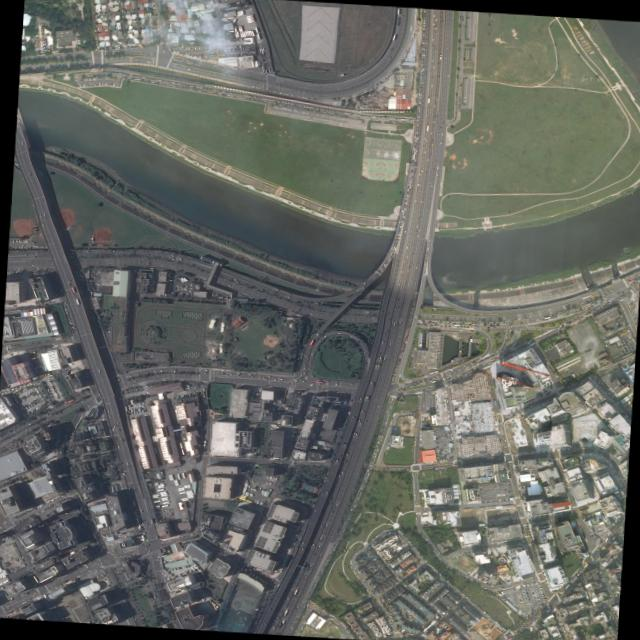large-vehicle: (395, 17, 398, 26), (178, 278, 183, 283), (567, 578, 572, 583), (582, 564, 587, 569), (308, 340, 313, 345), (70, 287, 74, 293), (74, 299, 78, 305), (231, 19, 235, 25), (293, 589, 297, 595), (167, 475, 171, 481), (409, 25, 412, 32), (236, 12, 243, 15), (245, 16, 252, 19), (246, 18, 253, 21), (247, 21, 254, 24), (220, 19, 227, 22), (183, 486, 190, 489), (156, 486, 163, 489), (156, 489, 163, 492), (160, 497, 167, 500), (160, 505, 167, 508), (180, 278, 185, 282), (182, 278, 187, 282), (391, 35, 395, 40), (564, 585, 569, 589), (174, 480, 178, 485), (235, 32, 238, 38), (242, 31, 245, 37), (244, 31, 247, 37), (254, 27, 257, 33), (234, 32, 237, 38), (236, 14, 242, 17), (245, 15, 251, 18), (247, 19, 253, 22), (237, 26, 240, 32), (185, 490, 191, 493), (186, 493, 192, 496), (187, 496, 193, 499), (181, 499, 187, 502), (178, 492, 184, 495), (177, 487, 183, 490), (181, 473, 184, 479), (176, 474, 179, 480), (173, 480, 176, 486), (169, 475, 172, 481), (157, 484, 163, 487), (159, 491, 165, 494), (160, 494, 166, 497), (152, 494, 158, 497), (151, 496, 157, 499), (153, 500, 159, 503), (162, 501, 168, 504), (600, 546, 604, 550), (167, 46, 170, 51), (240, 32, 243, 37), (245, 31, 248, 36), (247, 31, 250, 36), (249, 31, 252, 36), (250, 31, 253, 36), (256, 34, 259, 39), (628, 280, 633, 283), (430, 141, 433, 146), (239, 32, 242, 37), (239, 26, 242, 31), (283, 610, 286, 615), (162, 45, 164, 52), (426, 125, 428, 132), (226, 17, 233, 19), (185, 492, 192, 494), (177, 489, 184, 491), (159, 493, 166, 495), (434, 23, 436, 29), (412, 154, 414, 160), (236, 11, 242, 13), (233, 26, 235, 32), (220, 18, 226, 20), (281, 620, 284, 624), (604, 538, 607, 542), (331, 98, 337, 100), (183, 485, 189, 487), (186, 495, 192, 497), (180, 498, 186, 500), (141, 535, 143, 541), (161, 499, 167, 501), (544, 317, 549, 319), (427, 98, 429, 103), (226, 31, 233, 32), (315, 382, 322, 383), (453, 325, 459, 326), (439, 55, 440, 60), (397, 9, 398, 14)
small-vehicle: (388, 342, 391, 346), (478, 356, 481, 359), (356, 577, 359, 580), (310, 375, 313, 378), (233, 279, 236, 282), (310, 604, 313, 607), (310, 353, 313, 356), (315, 333, 318, 336), (365, 397, 368, 400), (323, 335, 326, 338), (349, 335, 352, 338), (362, 282, 365, 285), (324, 390, 328, 392), (227, 285, 231, 287), (308, 313, 312, 315), (309, 384, 313, 386), (596, 303, 599, 305), (596, 300, 599, 302), (602, 303, 605, 305), (608, 301, 611, 303), (587, 307, 590, 309), (559, 314, 562, 316), (584, 315, 587, 317), (587, 305, 590, 307), (107, 83, 109, 86), (83, 78, 85, 81), (485, 337, 487, 340), (435, 378, 438, 380), (475, 363, 478, 365), (485, 370, 488, 372), (499, 356, 502, 358), (535, 319, 538, 321), (526, 343, 529, 345), (538, 320, 541, 322), (465, 368, 468, 370), (462, 365, 465, 367), (498, 348, 501, 350), (472, 361, 475, 363), (453, 363, 456, 365), (464, 374, 467, 376), (422, 146, 424, 149), (415, 131, 417, 134), (429, 70, 431, 73), (446, 74, 448, 77), (425, 42, 427, 45), (194, 64, 197, 66), (213, 65, 216, 67), (337, 475, 340, 477), (417, 395, 419, 398), (357, 571, 359, 574), (361, 578, 364, 580), (301, 548, 303, 551), (318, 555, 320, 558), (318, 545, 320, 548), (319, 537, 321, 540), (335, 504, 337, 507), (325, 524, 327, 527), (521, 590, 524, 592), (335, 623, 338, 625), (367, 591, 369, 594), (530, 590, 533, 592), (529, 588, 532, 590), (437, 464, 440, 466), (492, 636, 495, 638), (583, 562, 586, 564), (575, 571, 577, 574), (586, 515, 588, 518), (316, 612, 319, 614), (279, 379, 282, 381), (317, 379, 320, 381), (235, 281, 238, 283), (273, 379, 276, 381), (308, 361, 310, 364), (275, 289, 278, 291), (341, 471, 343, 474), (345, 453, 347, 456), (108, 415, 110, 418), (116, 422, 118, 425), (112, 428, 114, 431), (153, 371, 156, 373), (160, 370, 163, 372), (173, 371, 176, 373), (204, 370, 207, 372), (236, 373, 239, 375), (417, 189, 419, 192), (400, 15, 402, 18), (387, 57, 390, 59), (398, 321, 400, 324), (334, 384, 337, 386), (309, 564, 311, 567), (363, 351, 365, 354), (366, 311, 369, 313), (360, 410, 363, 412), (414, 266, 416, 269), (146, 254, 149, 256), (170, 265, 173, 267), (171, 255, 174, 257), (178, 258, 181, 260), (410, 167, 412, 170), (417, 229, 419, 232), (401, 215, 403, 218), (392, 323, 394, 326), (381, 341, 383, 344), (429, 380, 432, 382), (383, 357, 385, 360), (411, 355, 413, 358), (418, 381, 421, 383), (389, 420, 391, 423), (542, 596, 545, 598), (541, 594, 544, 596), (540, 592, 543, 594), (522, 622, 524, 625), (518, 629, 521, 631), (513, 632, 516, 634), (513, 630, 516, 632), (527, 622, 530, 624), (535, 627, 538, 629), (531, 621, 534, 623), (39, 214, 41, 217), (590, 296, 592, 298), (595, 308, 597, 310), (597, 307, 599, 309), (600, 305, 602, 307), (628, 306, 630, 308), (603, 291, 605, 293), (623, 299, 625, 301), (625, 299, 627, 301), (591, 304, 593, 306), (579, 315, 581, 317), (581, 314, 583, 316), (572, 309, 574, 311), (582, 307, 584, 309), (585, 306, 587, 308), (622, 311, 624, 313), (156, 24, 158, 26), (156, 25, 158, 27), (167, 16, 169, 18), (513, 320, 515, 322), (517, 318, 519, 320), (561, 312, 563, 314), (458, 369, 460, 371), (496, 323, 498, 325), (502, 345, 504, 347), (496, 351, 498, 353), (485, 358, 487, 360), (471, 365, 473, 367), (414, 140, 416, 142), (423, 138, 425, 140), (423, 151, 425, 153), (416, 137, 418, 139), (416, 119, 418, 121), (420, 82, 422, 84), (420, 64, 422, 66), (422, 28, 424, 30), (218, 93, 220, 95), (209, 59, 211, 61), (211, 59, 213, 61), (213, 60, 215, 62), (214, 60, 216, 62), (215, 60, 217, 62), (176, 51, 178, 53), (197, 47, 199, 49), (439, 142, 441, 144), (437, 134, 439, 136), (269, 111, 271, 113), (339, 123, 341, 125), (401, 121, 403, 123), (359, 487, 361, 489), (353, 573, 355, 575), (355, 575, 357, 577), (363, 586, 365, 588), (301, 542, 303, 544), (495, 393, 497, 395), (499, 494, 501, 496), (500, 494, 502, 496), (365, 589, 367, 591), (512, 604, 514, 606), (526, 603, 528, 605), (584, 607, 586, 609), (582, 565, 584, 567), (596, 548, 598, 550), (599, 566, 601, 568), (596, 608, 598, 610), (595, 609, 597, 611), (603, 606, 605, 608), (594, 609, 596, 611), (349, 560, 351, 562), (302, 372, 304, 374), (303, 364, 305, 366), (262, 377, 264, 379), (353, 432, 355, 434), (119, 438, 121, 440), (126, 463, 128, 465), (122, 473, 124, 475), (407, 234, 409, 236), (358, 423, 360, 425), (308, 107, 310, 109), (303, 106, 305, 108), (349, 384, 353, 385), (359, 398, 361, 400), (364, 397, 366, 399), (24, 254, 26, 256), (535, 595, 537, 597), (397, 283, 399, 285), (416, 184, 418, 186), (420, 201, 422, 203), (426, 248, 428, 250), (425, 256, 427, 258), (402, 216, 404, 218), (401, 213, 403, 215), (406, 198, 408, 200), (405, 195, 407, 197), (406, 189, 408, 191), (409, 182, 411, 184), (432, 386, 434, 388), (414, 316, 416, 318), (418, 320, 420, 322), (411, 354, 413, 356), (412, 366, 414, 368), (413, 385, 415, 387), (411, 382, 413, 384), (433, 378, 435, 380), (401, 223, 403, 225), (535, 596, 537, 598), (375, 445, 377, 447), (564, 634, 566, 636), (561, 627, 563, 629), (559, 617, 561, 619), (368, 464, 370, 466), (373, 456, 375, 458), (389, 406, 391, 408), (559, 591, 561, 593), (540, 591, 542, 593), (545, 596, 547, 598), (538, 611, 540, 613), (525, 615, 527, 617), (570, 580, 572, 582), (573, 578, 575, 580), (537, 615, 539, 617), (24, 241, 26, 243), (41, 224, 43, 226), (43, 214, 45, 216), (361, 287, 363, 289), (383, 266, 385, 268), (379, 269, 381, 271), (383, 264, 385, 266), (388, 256, 390, 258), (389, 254, 391, 256), (391, 249, 393, 251), (392, 247, 394, 249), (397, 237, 399, 239), (597, 302, 600, 303), (602, 301, 605, 302), (603, 299, 606, 300), (604, 292, 607, 293), (612, 292, 615, 293), (611, 294, 614, 295), (614, 295, 617, 296), (593, 305, 596, 306), (563, 313, 566, 314), (572, 311, 575, 312), (575, 309, 578, 310), (152, 8, 155, 9), (128, 75, 131, 76), (151, 3, 154, 4), (152, 7, 155, 8), (135, 79, 138, 80), (139, 80, 142, 81), (86, 73, 89, 74), (86, 76, 89, 77), (73, 76, 76, 77), (73, 79, 76, 80), (98, 83, 99, 86), (570, 320, 573, 321), (480, 323, 483, 324), (474, 324, 477, 325), (467, 326, 470, 327), (468, 327, 471, 328), (483, 325, 486, 326), (483, 324, 486, 325), (489, 322, 492, 323), (444, 322, 447, 323), (426, 325, 429, 326), (438, 324, 441, 325), (446, 325, 449, 326), (451, 322, 454, 323), (495, 359, 498, 360), (502, 326, 505, 327), (495, 322, 498, 323), (141, 77, 144, 78), (157, 80, 160, 81), (171, 83, 174, 84), (421, 156, 422, 159), (413, 148, 414, 151), (446, 123, 449, 124), (446, 126, 449, 127), (462, 100, 465, 101), (462, 97, 465, 98), (432, 120, 433, 123), (423, 54, 424, 57), (207, 92, 210, 93), (216, 55, 219, 56), (198, 87, 201, 88), (195, 87, 198, 88), (189, 89, 192, 90), (174, 60, 177, 61), (184, 53, 185, 56), (185, 47, 186, 50), (186, 53, 187, 56), (185, 61, 188, 62), (187, 47, 188, 50), (406, 121, 409, 122), (353, 114, 356, 115), (404, 119, 407, 120), (420, 419, 423, 420), (447, 439, 450, 440), (447, 437, 450, 438), (439, 434, 442, 435), (413, 443, 414, 446), (443, 450, 446, 451), (498, 499, 499, 502), (506, 482, 509, 483), (389, 469, 392, 470), (524, 599, 527, 600), (528, 603, 531, 604), (397, 469, 400, 470), (440, 464, 443, 465), (444, 464, 447, 465), (289, 382, 292, 383), (264, 379, 267, 380), (267, 376, 270, 377), (294, 381, 297, 382), (301, 381, 304, 382), (287, 294, 290, 295), (286, 297, 289, 298), (250, 376, 253, 377), (355, 433, 356, 436), (117, 445, 118, 448), (145, 263, 148, 264), (220, 373, 223, 374), (229, 374, 232, 375), (326, 381, 329, 382), (383, 117, 386, 118), (401, 119, 404, 120), (325, 384, 328, 385), (337, 333, 340, 334), (171, 259, 174, 260), (32, 256, 35, 257), (21, 142, 22, 145), (111, 75, 114, 76), (436, 173, 437, 176), (400, 270, 401, 273), (406, 255, 407, 258), (424, 267, 425, 270), (423, 273, 424, 276), (404, 208, 405, 211), (405, 197, 406, 200), (403, 393, 406, 394), (443, 383, 446, 384), (423, 325, 426, 326), (428, 322, 431, 323), (443, 326, 446, 327), (371, 383, 372, 386), (421, 382, 424, 383), (416, 385, 419, 386), (409, 386, 412, 387), (563, 630, 564, 633), (376, 449, 377, 452), (404, 230, 405, 233), (336, 460, 337, 462), (603, 298, 605, 299), (608, 303, 610, 304), (609, 290, 611, 291), (627, 302, 628, 304), (580, 303, 582, 304), (557, 315, 559, 316), (560, 316, 562, 317), (582, 315, 584, 316), (584, 313, 586, 314), (570, 313, 572, 314), (581, 306, 583, 307), (583, 305, 585, 306), (587, 304, 589, 305), (585, 308, 587, 309), (631, 316, 632, 318), (438, 323, 440, 324), (140, 47, 142, 48), (122, 77, 124, 78), (127, 78, 129, 79), (153, 10, 155, 11), (155, 20, 157, 21), (84, 73, 86, 74), (155, 21, 157, 22), (155, 22, 157, 23), (147, 61, 149, 62), (147, 62, 149, 63), (133, 79, 135, 80), (124, 48, 126, 49), (113, 84, 114, 86), (110, 84, 111, 86), (89, 72, 91, 73), (90, 75, 92, 76), (74, 77, 76, 78), (74, 80, 76, 81), (74, 81, 76, 82), (83, 85, 84, 87), (86, 78, 87, 80), (90, 78, 91, 80), (92, 78, 93, 80), (94, 78, 95, 80), (94, 84, 95, 86), (101, 83, 102, 85), (104, 83, 105, 85), (105, 83, 106, 85), (563, 324, 565, 325), (563, 315, 565, 316), (471, 326, 473, 327), (474, 326, 476, 327), (472, 327, 474, 328), (475, 327, 477, 328), (484, 323, 486, 324), (480, 324, 482, 325), (566, 314, 568, 315), (480, 327, 482, 328), (481, 326, 483, 327), (441, 377, 443, 378), (448, 374, 450, 375), (483, 327, 485, 328), (486, 324, 488, 325), (486, 326, 488, 327), (471, 324, 473, 325), (453, 327, 455, 328), (446, 323, 448, 324), (448, 322, 450, 323), (426, 327, 428, 328), (433, 326, 435, 327), (437, 326, 439, 327), (450, 325, 452, 326), (450, 326, 452, 327), (449, 323, 451, 324), (455, 322, 457, 323), (461, 322, 463, 323), (464, 323, 466, 324), (465, 324, 467, 325), (461, 325, 463, 326), (492, 324, 494, 325), (492, 325, 494, 326), (492, 327, 494, 328), (466, 366, 468, 367), (489, 386, 490, 388), (496, 355, 498, 356), (505, 336, 506, 338), (509, 329, 510, 331), (508, 327, 509, 329), (510, 325, 511, 327), (515, 329, 516, 331), (534, 340, 536, 341), (548, 319, 550, 320), (554, 317, 556, 318), (502, 325, 504, 326), (496, 325, 498, 326), (499, 326, 501, 327), (499, 325, 501, 326), (499, 323, 501, 324), (499, 322, 501, 323), (502, 323, 504, 324), (504, 341, 505, 343), (480, 360, 482, 361), (446, 377, 448, 378), (425, 139, 426, 141), (427, 159, 428, 161), (415, 150, 416, 152), (413, 151, 414, 153), (414, 143, 415, 145), (415, 137, 416, 139), (413, 136, 414, 138), (416, 124, 417, 126), (418, 110, 419, 112), (418, 102, 419, 104), (419, 97, 420, 99), (419, 94, 420, 96), (430, 132, 431, 134), (426, 114, 427, 116), (429, 107, 430, 109), (430, 85, 431, 87), (436, 98, 437, 100), (437, 63, 438, 65), (432, 66, 433, 68), (431, 59, 432, 61), (431, 39, 432, 41), (432, 23, 433, 25), (432, 15, 433, 17), (446, 47, 447, 49), (448, 49, 449, 51), (438, 76, 439, 78), (433, 105, 434, 107), (418, 93, 419, 95), (419, 76, 420, 78), (420, 70, 421, 72), (422, 69, 423, 71), (422, 54, 423, 56), (423, 48, 424, 50), (422, 48, 423, 50), (422, 42, 423, 44), (422, 40, 423, 42), (422, 37, 423, 39), (422, 34, 423, 36), (422, 31, 423, 33), (423, 25, 424, 27), (423, 22, 424, 24), (423, 17, 424, 19), (423, 10, 424, 12), (431, 46, 432, 48), (178, 57, 180, 58), (212, 58, 214, 59), (221, 91, 223, 92), (226, 95, 228, 96), (229, 96, 231, 97), (232, 96, 234, 97), (235, 97, 237, 98), (238, 97, 240, 98), (240, 98, 242, 99), (243, 98, 245, 99), (222, 56, 224, 57), (216, 52, 217, 54), (219, 56, 221, 57), (217, 56, 219, 57), (190, 86, 192, 87), (175, 57, 177, 58), (173, 51, 174, 53), (181, 59, 183, 60), (188, 63, 190, 64), (181, 45, 182, 47), (194, 55, 195, 57), (194, 47, 195, 49), (198, 56, 199, 58), (203, 51, 205, 52), (226, 47, 227, 49), (238, 46, 239, 48), (240, 39, 241, 41), (222, 54, 224, 55), (265, 110, 266, 112), (441, 133, 442, 135), (438, 153, 439, 155), (323, 112, 325, 113), (327, 113, 329, 114), (330, 113, 332, 114), (344, 113, 346, 114), (351, 117, 353, 118), (354, 117, 356, 118), (372, 117, 374, 118), (375, 120, 377, 121), (389, 118, 391, 119), (392, 118, 394, 119), (386, 121, 388, 122), (392, 121, 394, 122), (395, 121, 397, 122), (404, 122, 406, 123), (407, 122, 409, 123), (435, 323, 437, 324), (426, 409, 428, 410), (504, 440, 505, 442), (361, 488, 362, 490), (384, 422, 385, 424), (402, 414, 404, 415), (426, 408, 428, 409), (456, 445, 457, 447), (426, 407, 428, 408), (432, 406, 434, 407), (414, 441, 415, 443), (436, 450, 438, 451), (443, 449, 445, 450), (499, 499, 500, 501), (503, 494, 504, 496), (502, 494, 503, 496), (496, 494, 497, 496), (497, 494, 498, 496), (498, 494, 499, 496), (441, 451, 443, 452), (431, 324, 433, 325), (333, 622, 335, 623), (331, 616, 333, 617), (517, 596, 519, 597), (393, 469, 395, 470), (517, 595, 519, 596), (531, 592, 533, 593), (533, 591, 535, 592), (534, 592, 536, 593), (417, 503, 418, 505), (436, 452, 438, 453), (597, 527, 599, 528), (598, 528, 600, 529), (349, 562, 350, 564), (303, 368, 304, 370), (113, 426, 114, 428), (248, 374, 250, 375), (335, 382, 337, 383), (306, 107, 308, 108), (311, 108, 313, 109), (320, 111, 322, 112), (357, 115, 359, 116), (413, 174, 414, 176), (411, 163, 412, 165), (312, 544, 313, 546), (212, 90, 214, 91), (383, 334, 384, 336), (31, 265, 33, 266), (177, 83, 179, 84), (534, 593, 536, 594), (534, 594, 536, 595), (414, 200, 415, 202), (418, 173, 419, 175), (421, 170, 422, 172), (437, 167, 438, 169), (430, 185, 431, 187), (416, 226, 417, 228), (416, 235, 417, 237), (406, 246, 407, 248), (428, 239, 429, 241), (424, 263, 425, 265), (411, 173, 412, 175), (409, 175, 410, 177), (408, 181, 409, 183), (410, 179, 411, 181), (400, 221, 401, 223), (398, 221, 399, 223), (401, 210, 402, 212), (402, 210, 403, 212), (403, 208, 404, 210), (404, 202, 405, 204), (405, 203, 406, 205), (406, 201, 407, 203), (407, 195, 408, 197), (408, 184, 409, 186), (408, 187, 409, 189), (409, 184, 410, 186), (440, 376, 442, 377), (421, 320, 423, 321), (419, 322, 421, 323), (417, 325, 419, 326), (420, 325, 422, 326), (425, 322, 427, 323), (440, 326, 442, 327), (432, 321, 434, 322), (435, 321, 437, 322), (439, 321, 441, 322), (442, 321, 444, 322), (442, 382, 444, 383), (403, 391, 405, 392), (401, 386, 403, 387), (379, 357, 380, 359), (377, 364, 378, 366), (375, 365, 376, 367), (370, 381, 371, 383), (408, 385, 410, 386), (415, 382, 417, 383), (422, 384, 424, 385), (408, 383, 410, 384), (404, 385, 406, 386), (402, 384, 404, 385), (399, 226, 400, 228), (369, 468, 371, 469), (373, 458, 374, 460), (373, 452, 374, 454), (386, 410, 387, 412), (400, 228, 401, 230), (380, 439, 381, 441), (557, 616, 558, 618), (553, 594, 555, 595), (536, 599, 538, 600), (538, 586, 540, 587), (538, 585, 540, 586), (534, 620, 536, 621), (22, 241, 23, 243), (26, 241, 27, 243), (393, 248, 394, 250), (390, 247, 391, 249), (397, 234, 398, 236), (398, 233, 399, 235), (23, 241, 24, 243), (18, 241, 19, 243), (474, 323, 475, 324), (418, 108, 419, 109), (423, 20, 424, 21), (401, 226, 402, 227), (432, 322, 433, 323), (390, 252, 391, 253), (557, 317, 559, 317), (89, 78, 89, 81), (464, 326, 466, 326), (442, 325, 445, 325), (458, 323, 460, 323), (467, 323, 469, 323), (495, 327, 498, 327), (435, 19, 435, 21), (219, 55, 221, 55), (348, 117, 350, 117), (372, 120, 374, 120), (441, 324, 443, 324), (415, 428, 415, 430), (440, 438, 443, 438), (443, 453, 446, 453), (507, 484, 509, 484), (436, 455, 438, 455), (425, 321, 427, 321)
